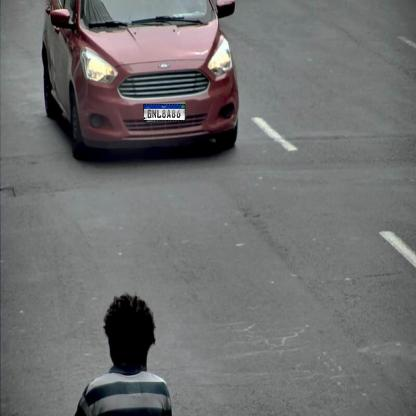PlacaM: (143, 104, 186, 121)
